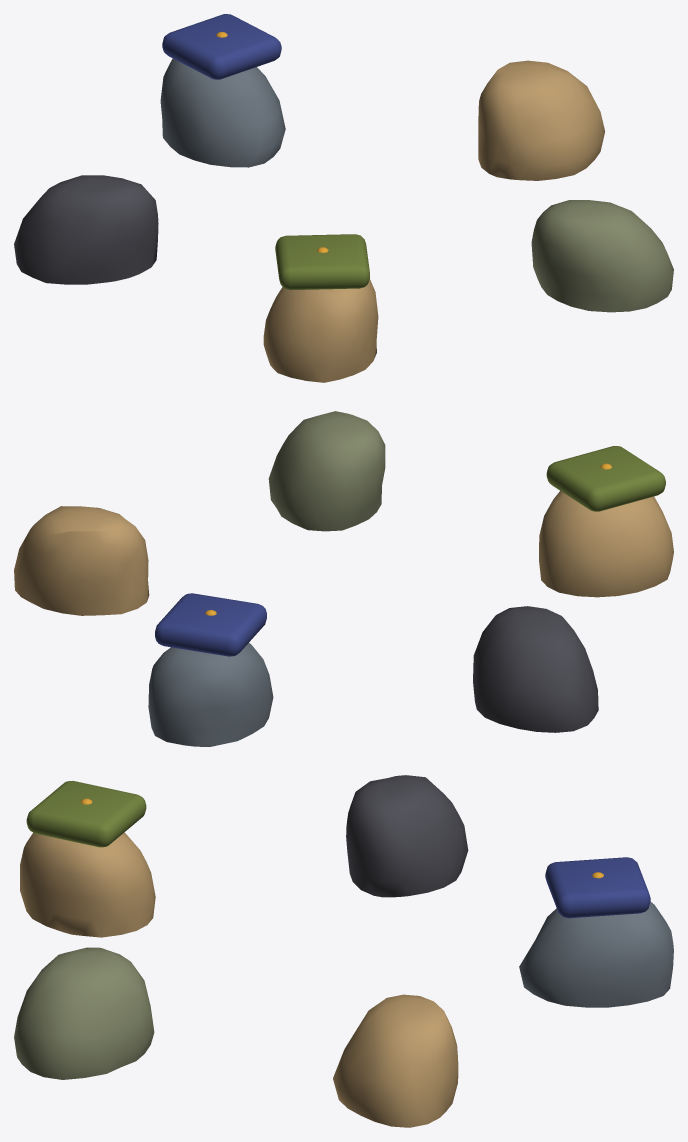
File: deco_seating_stones_ring.fbx
The picture shows the model from 3 angles, top to bottom: view 1: azimuth 30°, elevation 25°; view 2: azimuth 150°, elevation 25°; view 3: azimuth 270°, elevation 25°; orthographic projection. The views are drawn at different scales.
Parts seen in each view (by area): view 1: SeatingStones_Ring_Seat2, SeatingStones_Ring_Seat4, SeatingStones_Ring_Seat3, SeatingStones_Ring_Seat5, SeatingStones_Ring_Seat1; view 2: SeatingStones_Ring_Seat4, SeatingStones_Ring_Seat2, SeatingStones_Ring_Seat3, SeatingStones_Ring_Seat1, SeatingStones_Ring_Seat5; view 3: SeatingStones_Ring_Seat2, SeatingStones_Ring_Seat4, SeatingStones_Ring_Seat5, SeatingStones_Ring_Seat1, SeatingStones_Ring_Seat3.
Boxes of the visible parts, x1,y1,x2,y2 form: SeatingStones_Ring_Seat2: (160,14,285,167); SeatingStones_Ring_Seat4: (263,234,378,382); SeatingStones_Ring_Seat3: (14,175,158,284); SeatingStones_Ring_Seat5: (531,200,673,312); SeatingStones_Ring_Seat1: (478,60,605,180); SeatingStones_Ring_Seat4: (539,446,673,597); SeatingStones_Ring_Seat2: (148,593,273,746); SeatingStones_Ring_Seat3: (473,606,598,732); SeatingStones_Ring_Seat1: (14,506,149,615); SeatingStones_Ring_Seat5: (268,411,385,531); SeatingStones_Ring_Seat2: (519,857,673,1007); SeatingStones_Ring_Seat4: (20,781,155,937); SeatingStones_Ring_Seat5: (14,947,154,1079); SeatingStones_Ring_Seat1: (333,994,458,1127); SeatingStones_Ring_Seat3: (346,775,468,897).
Size of the model in its own units: 361 by 67.6 by 349.
